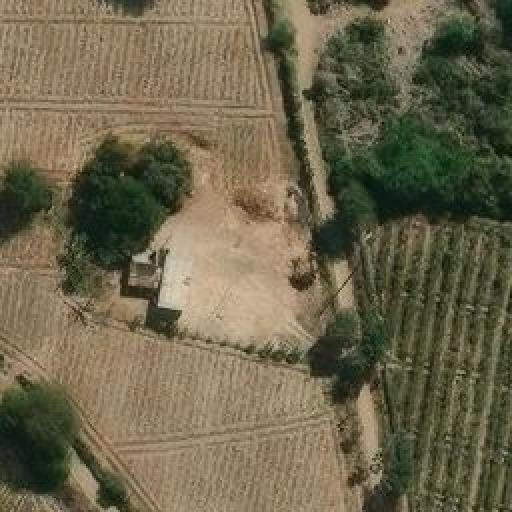manzanas: (97, 181, 328, 371)
